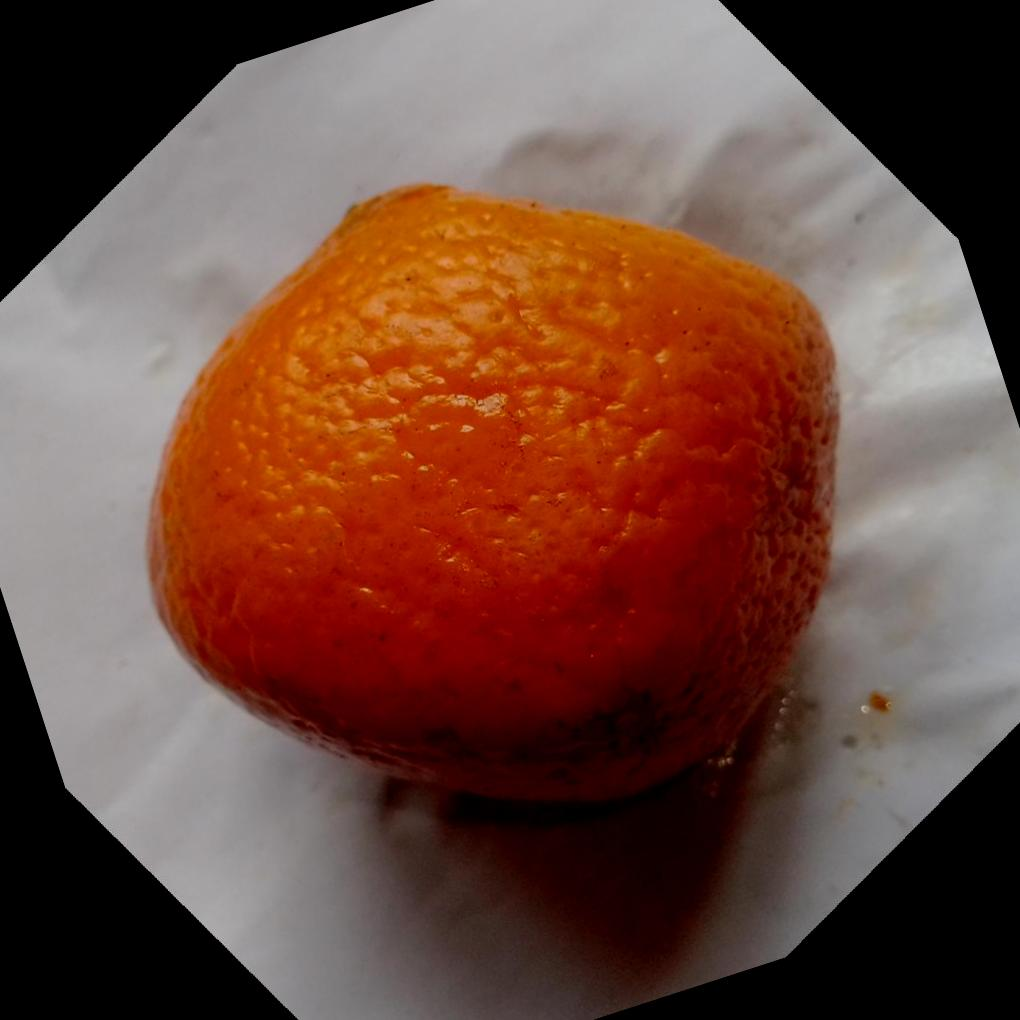FreshOrange: (142, 177, 841, 822)
